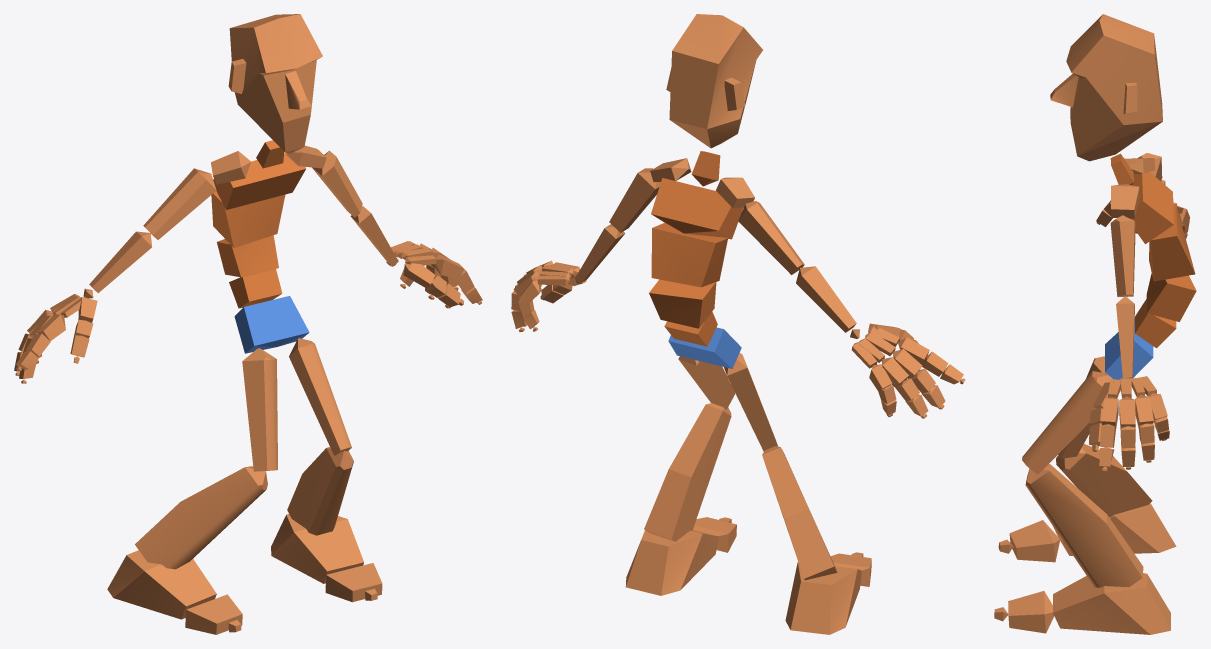
3 renders of one model, left to right at view 1: azimuth 30°, elevation 25°; view 2: azimuth 150°, elevation 25°; view 3: azimuth 270°, elevation 25°, orthographic. The views are drawn at different scales.
Parts seen in each view (by area): view 1: BOPED_Head, BOPED_R_leg, BOPED_R_foot, BOPED_R_foot01, BOPED_L_leg, BOPED_R_legup, BOPED_L_legup, Bone01, Bone04, Bone05, BOPED_R_arm_upper, Bone03 (+7 smaller); view 2: BOPED_Head, BOPED_L_leg, BOPED_R_foot01, BOPED_R_foot, BOPED_R_leg, Bone04, Bone05, Bone03, BOPED_R_arm_upper, BOPED_R_legup, Bone01, BOPED_R_arm_fore (+9 smaller); view 3: BOPED_Head, BOPED_L_leg, BOPED_R_foot01, BOPED_R_leg, BOPED_L_legup, Bone05, BOPED_R_foot, Bone04, Bone03, BOPED_L_arm_upper, BOPED_R_foot_toe01, BOPED_R_foot_toe04 (+14 smaller).
Part boxes in pixels (<box>): BOPED_Head: <box>228,14,322,153</box>; BOPED_R_leg: <box>135,466,267,569</box>; BOPED_R_foot: <box>107,550,216,619</box>; BOPED_R_foot01: <box>271,514,363,583</box>; BOPED_L_leg: <box>287,447,353,535</box>; BOPED_R_legup: <box>242,348,277,471</box>; BOPED_L_legup: <box>289,338,351,455</box>; Bone01: <box>234,296,309,353</box>; Bone04: <box>211,191,285,247</box>; Bone05: <box>213,152,306,209</box>; BOPED_R_arm_upper: <box>143,168,216,239</box>; Bone03: <box>217,235,278,277</box>; BOPED_Head: <box>666,14,762,148</box>; BOPED_L_leg: <box>644,403,731,541</box>; BOPED_R_foot01: <box>625,530,719,595</box>; BOPED_R_foot: <box>785,562,861,634</box>; BOPED_R_leg: <box>762,446,837,580</box>; Bone04: <box>651,223,727,287</box>; Bone05: <box>651,178,743,239</box>; Bone03: <box>649,279,716,328</box>; BOPED_R_arm_upper: <box>738,201,804,274</box>; BOPED_R_legup: <box>724,353,777,451</box>; Bone01: <box>668,327,741,368</box>; BOPED_R_arm_fore: <box>796,266,856,332</box>; BOPED_Head: <box>1050,14,1162,161</box>; BOPED_L_leg: <box>1025,464,1143,587</box>; BOPED_R_foot01: <box>1053,573,1170,634</box>; BOPED_R_leg: <box>1056,444,1152,516</box>; BOPED_L_legup: <box>1022,371,1112,474</box>; Bone05: <box>1129,172,1173,244</box>; BOPED_R_foot: <box>1053,503,1176,555</box>; Bone04: <box>1149,204,1195,281</box>; Bone03: <box>1146,273,1196,321</box>; BOPED_L_arm_upper: <box>1110,215,1135,297</box>; BOPED_R_foot_toe01: <box>1009,520,1060,562</box>; BOPED_R_foot_toe04: <box>1008,591,1053,633</box>.
Size of the model in its own units: 152 by 178 by 56.5.
